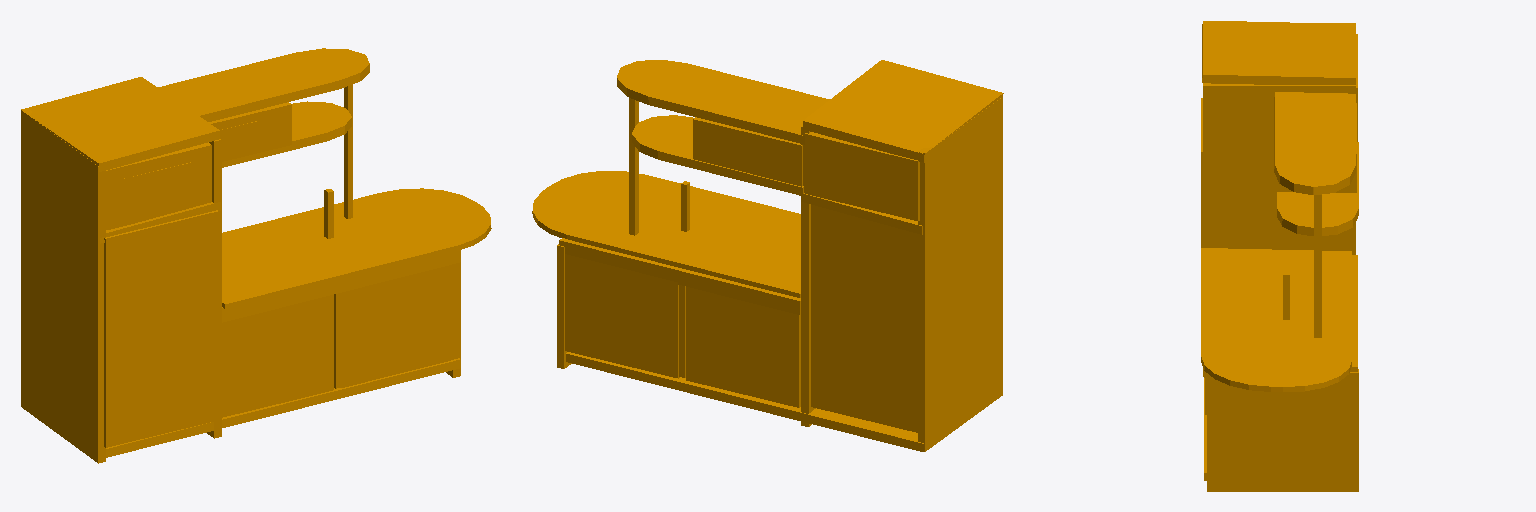
robot.urdf — Kitchen_table:
<?xml version="1.0" ?>
<robot name="Kitchen_table">
    <link name="link">
	    <contact>
      		<lateral_friction value="1.0"/>
      		<rolling_friction value="1"/>
      		<inertia_scaling value="3.0"/>
	    </contact>
	    <inertial>
	      <origin xyz="0. 0. 0." />
	      <mass value="10000" />
	      <inertia ixx="0.001" ixy="0.0" ixz="0.0" iyy="0.001" iyz="0.0" izz="0.001" />
	    </inertial>
      <pose>0 0 0 0 0 1.57079632679</pose>

        <visual name="visual">
        <origin rpy="0.0 0.0 0.0" xyz="0.0 0.0 0.0" />
          <geometry>
            <mesh filename="meshes/model.obj" />
          </geometry>
        </visual>

        <collision name="collision">
        <origin rpy="0.0 0.0 0.0" xyz="0.0 0.0 0.0" />
          <geometry>
            <mesh filename="meshes/model.obj" />
          </geometry>
        </collision>

    </link>
  </robot>

--- What the picture shows (computed from the rendered views, not written in the file) ---
Views: 3 orthographic renders of the robot side by side, from view 1: azimuth 30°, elevation 25°; view 2: azimuth 150°, elevation 25°; view 3: azimuth 270°, elevation 25°.
Robot: Kitchen_table — 1 links, 0 joints (none); root link link; default pose: all joints at 0.
Links seen in each view (by area): view 1: link; view 2: link; view 3: link.
Link boxes in pixels (x1=…): link: x1=21, y1=48, x2=491, y2=463; link: x1=532, y1=60, x2=1003, y2=451; link: x1=1201, y1=21, x2=1358, y2=491.
Bounding box of the posed robot: 1.56 × 0.5231 × 1.09 m (x, y, z).
1 mesh visuals loaded from 1 distinct referenced files (1 OBJ).